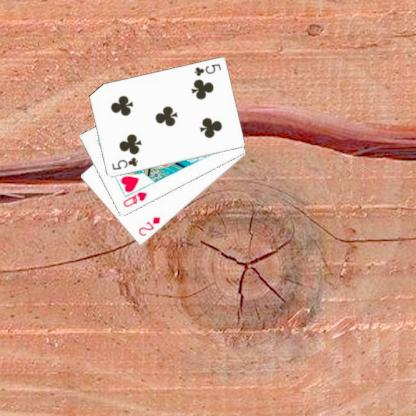2D: (136, 214, 162, 238)
5C: (191, 61, 222, 78), (109, 155, 139, 172)
QH: (120, 189, 149, 209)
